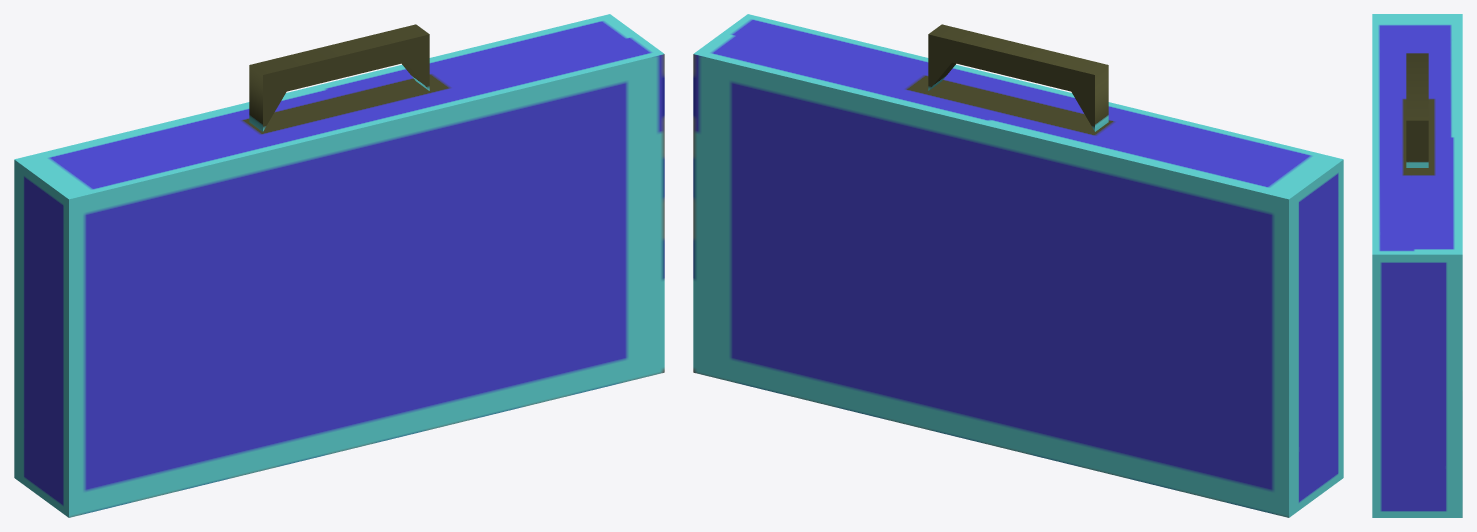
Rendered from suitcase1.fbx.
3 renders of one model, left to right at view 1: azimuth 30°, elevation 25°; view 2: azimuth 150°, elevation 25°; view 3: azimuth 270°, elevation 25°, orthographic. The views are drawn at different scales.
Visible parts, largest first — view 1: brefcase; view 2: brefcase; view 3: brefcase.
Boxes of the visible parts, x1=… form: brefcase: x1=14, y1=14, x2=664, y2=517; brefcase: x1=693, y1=14, x2=1343, y2=517; brefcase: x1=1372, y1=14, x2=1462, y2=517.
Size of the model in its own units: 68.59 by 41.31 by 10.91.
